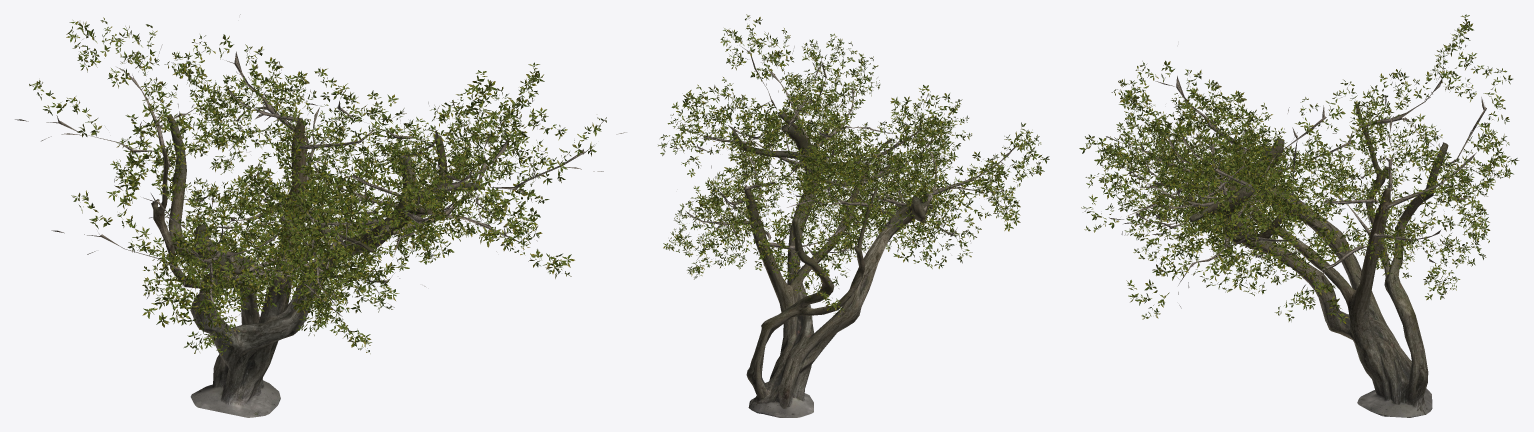
Rendered from island_tree.glb.
3 views of the same model, side by side, from view 1: azimuth 30°, elevation 25°; view 2: azimuth 150°, elevation 25°; view 3: azimuth 270°, elevation 25° (orthographic). The views are drawn at different scales.
Parts seen in each view (by area): view 1: island_tree_02_LOD0; view 2: island_tree_02_LOD0; view 3: island_tree_02_LOD0.
Part boxes in pixels (x1,y1,x2,y2): island_tree_02_LOD0: (15, 14, 626, 417); island_tree_02_LOD0: (658, 14, 1049, 417); island_tree_02_LOD0: (1079, 14, 1518, 417).
Bounding box in the file's own units: 4.21 × 3.41 × 4.07.
3 materials, 3 textured.
